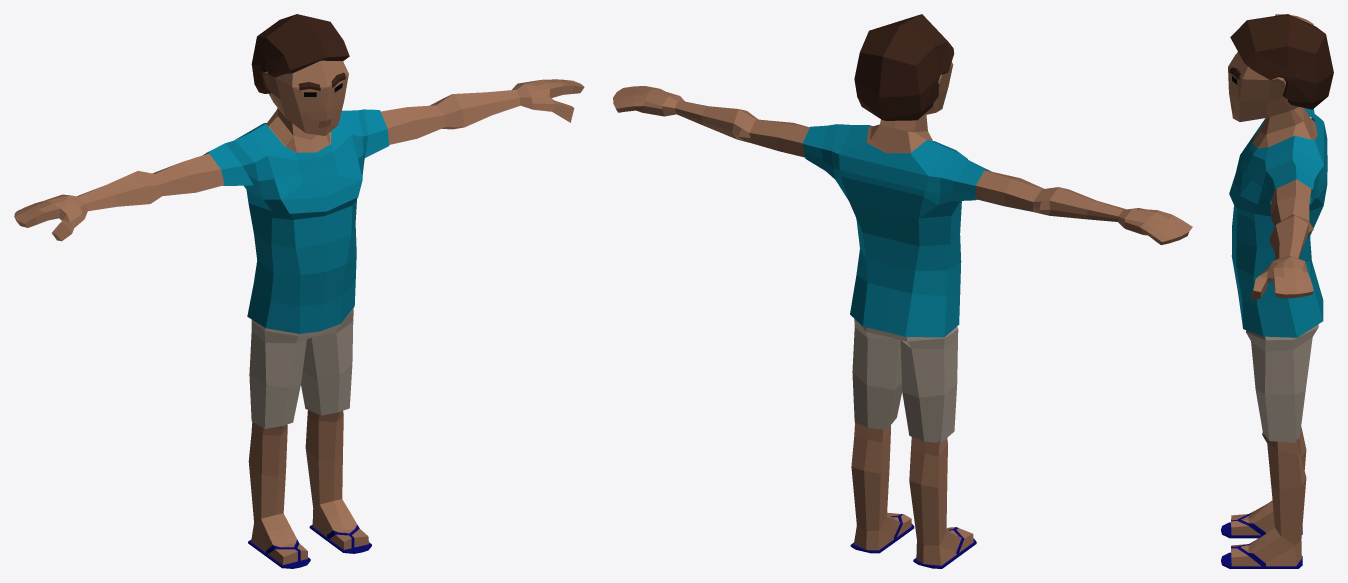
Rendered from NPC_1_M_Escenario1.fbx.
3 views of the same model, side by side, from view 1: azimuth 30°, elevation 25°; view 2: azimuth 150°, elevation 25°; view 3: azimuth 270°, elevation 25° (orthographic).
Visible parts, largest first — view 1: Cabeza_2; view 2: Cabeza_2; view 3: Cabeza_2.
Boxes of the visible parts, x1,y1,x2,y2 form: Cabeza_2: (14,14,584,568); Cabeza_2: (613,14,1192,568); Cabeza_2: (1221,14,1333,568).
Bounding box in the file's own units: 215 × 190 × 36.6.
